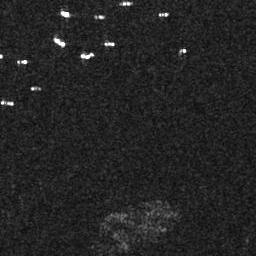ship: (53, 36, 66, 48), (80, 51, 94, 60), (61, 9, 71, 19), (1, 99, 13, 107), (16, 58, 29, 65), (31, 84, 42, 92), (93, 14, 106, 20), (120, 1, 133, 7), (103, 40, 115, 46), (158, 11, 169, 17)
